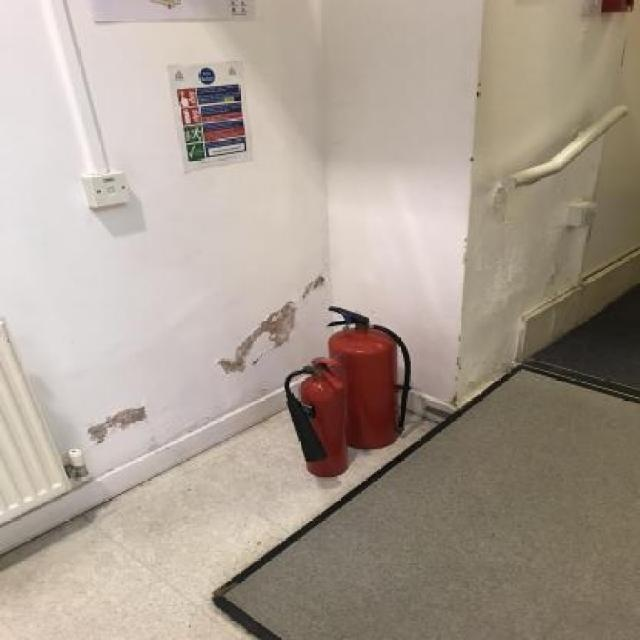fire extinguisher: (326, 305, 414, 449), (285, 357, 349, 477)
